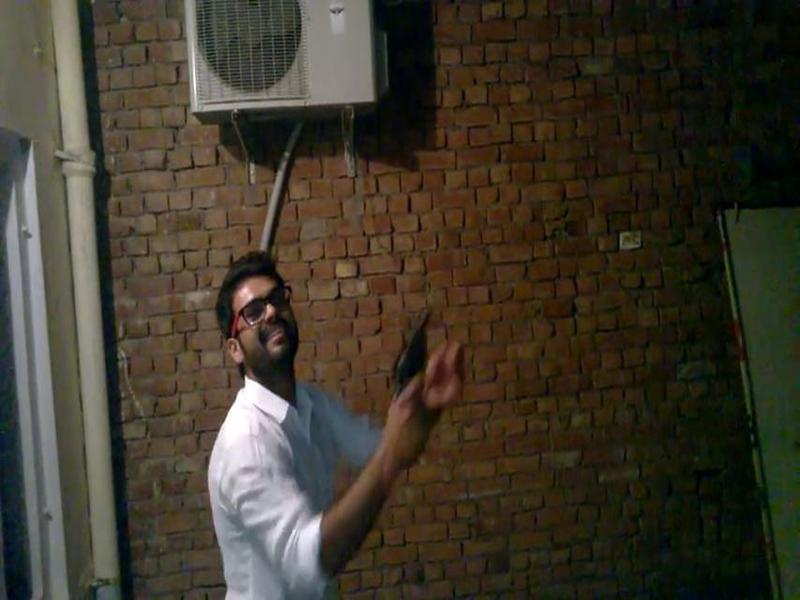Revolver: (367, 307, 439, 404)
